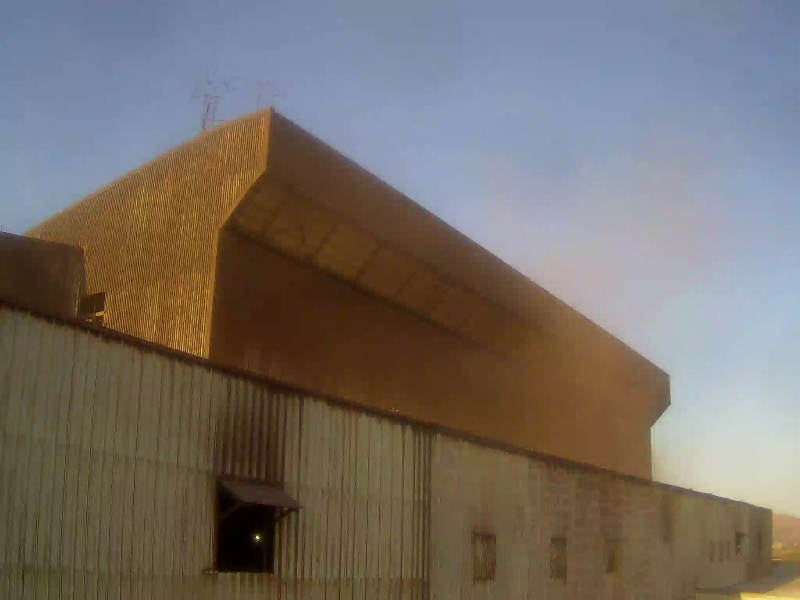Pessimo: (262, 115, 662, 489)
